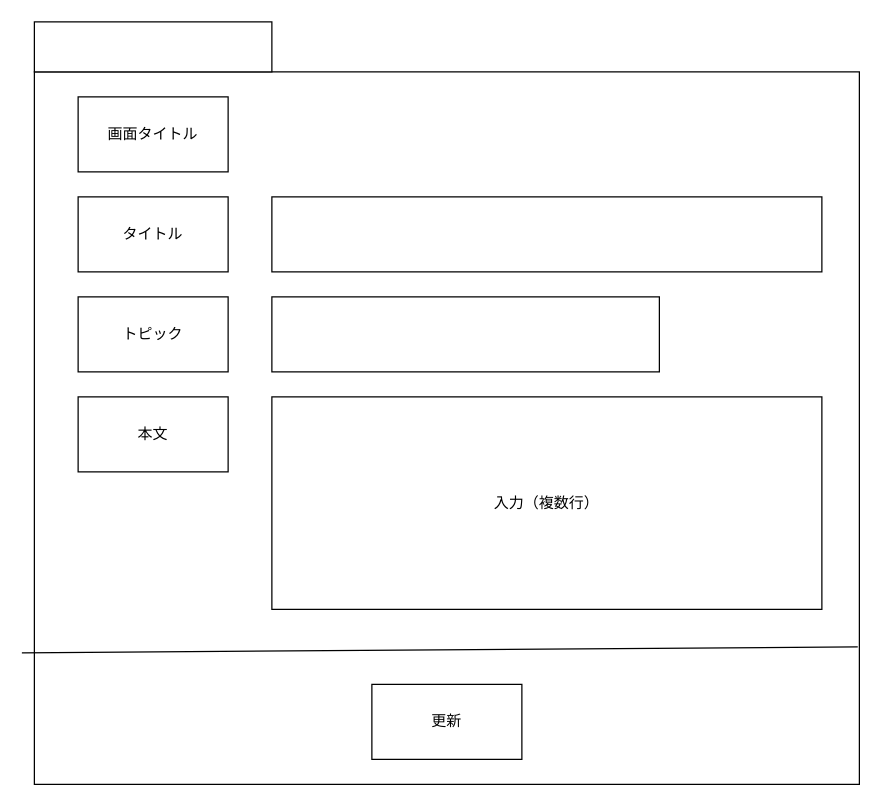
Image size: 881x806. Some labels were removed from this diagram. Here are the shapes that lost their labels. From the top down, the box of each, then its label:
(33, 21, 272, 72): アプリタイトル
(271, 196, 822, 272): 入力（1行）
(271, 296, 659, 372): 選択（カテゴリ名）
